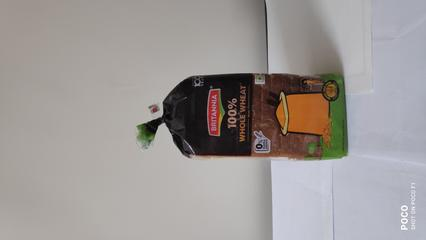bread: (164, 70, 356, 172)
